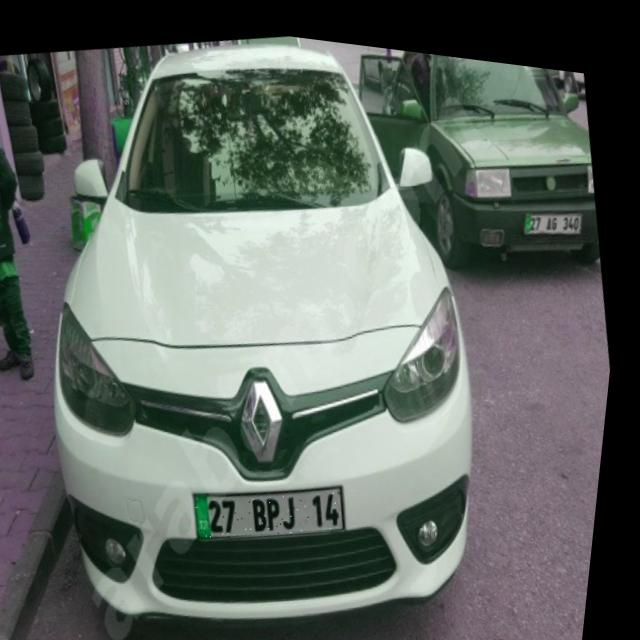license_plate: (201, 463, 359, 547)
